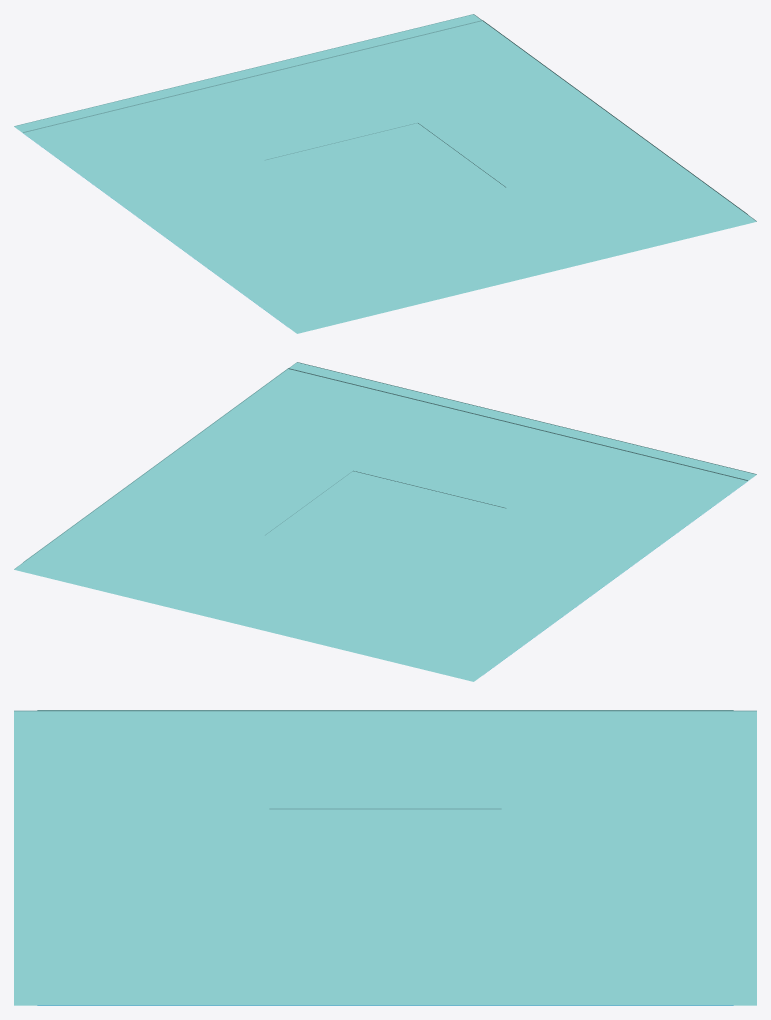
The model's file is ocean.glb.
3 views of the same model, one above another, from view 1: azimuth 30°, elevation 25°; view 2: azimuth 150°, elevation 25°; view 3: azimuth 270°, elevation 25° (orthographic). The views are drawn at different scales.
Parts seen in each view (by area): view 1: Ocean.001, Ocean, Ocean Floor; view 2: Ocean.001, Ocean, Ocean Floor; view 3: Ocean.001, Ocean, Ocean Floor.
Boxes of the visible parts, x1,y1,x2,y2 form: Ocean.001: (14, 14, 756, 333); Ocean: (264, 122, 505, 224); Ocean Floor: (23, 20, 747, 306); Ocean.001: (14, 362, 756, 681); Ocean: (264, 470, 506, 572); Ocean Floor: (23, 368, 747, 654); Ocean.001: (14, 710, 756, 1005); Ocean: (269, 808, 501, 907); Ocean Floor: (37, 710, 733, 1005).
Size of the model in its own units: 30 by 0.0625 by 32.
